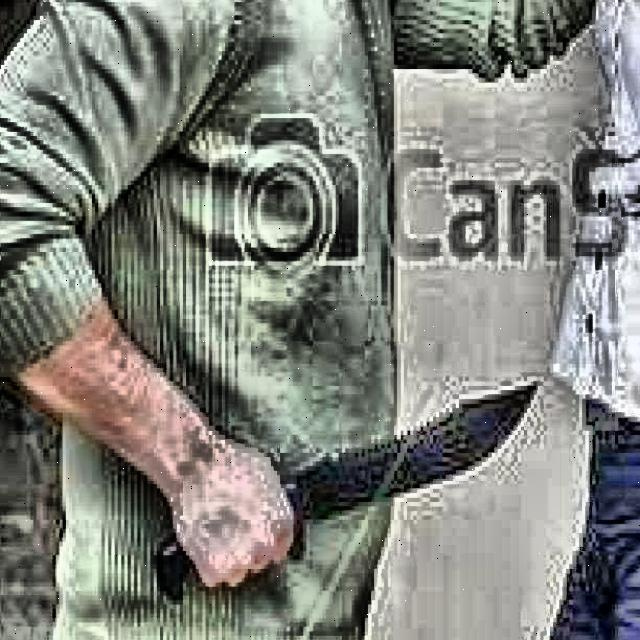knife: (153, 380, 537, 605)
